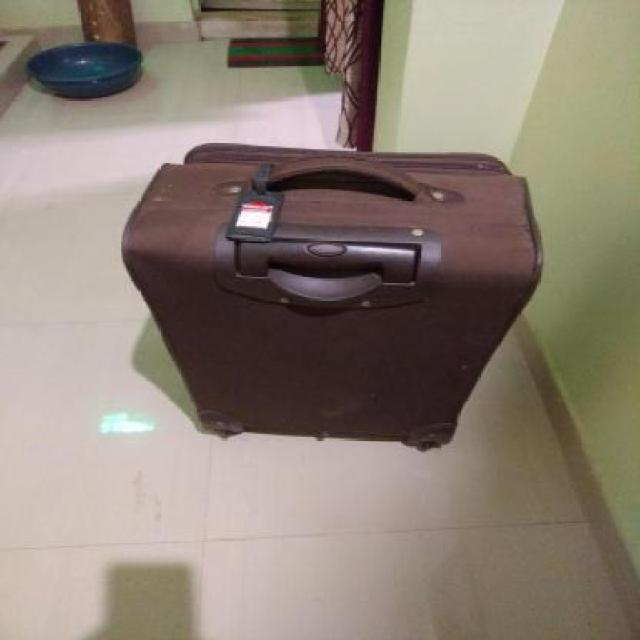backpack: (114, 137, 549, 457)
